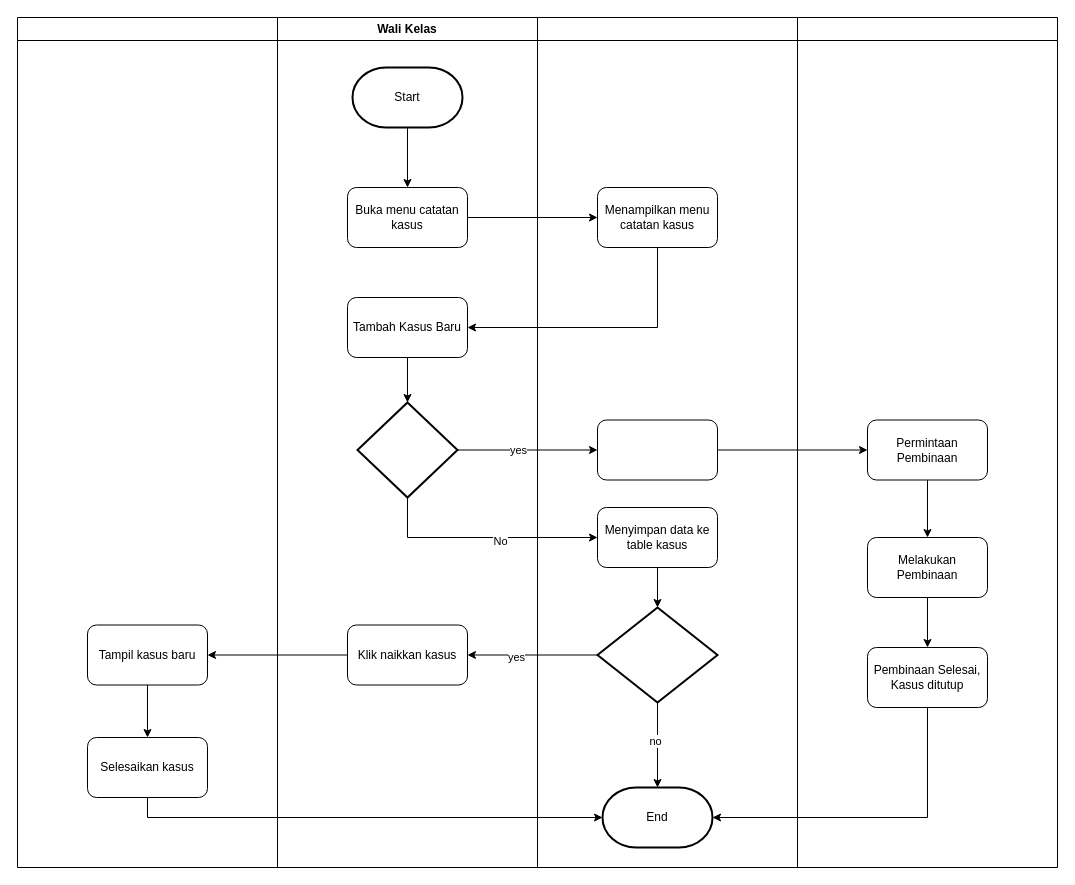
Some shapes in this 1075 by 885 pixel diagram are drawn without their labels. The shapes that lost their labels are listed below. From the top down, each one's box as (x1, y1, x2, y2) in pixels, then its label:
(16, 16, 278, 868): Kesiswaan
(356, 401, 458, 498): Pembinaan BK?
(596, 419, 718, 480): Menyimpan data ke table kasus dan table BK
(536, 16, 798, 868): System
(796, 16, 1058, 868): BK
(596, 606, 718, 703): Naikkan kasus ke kesisswaan?
